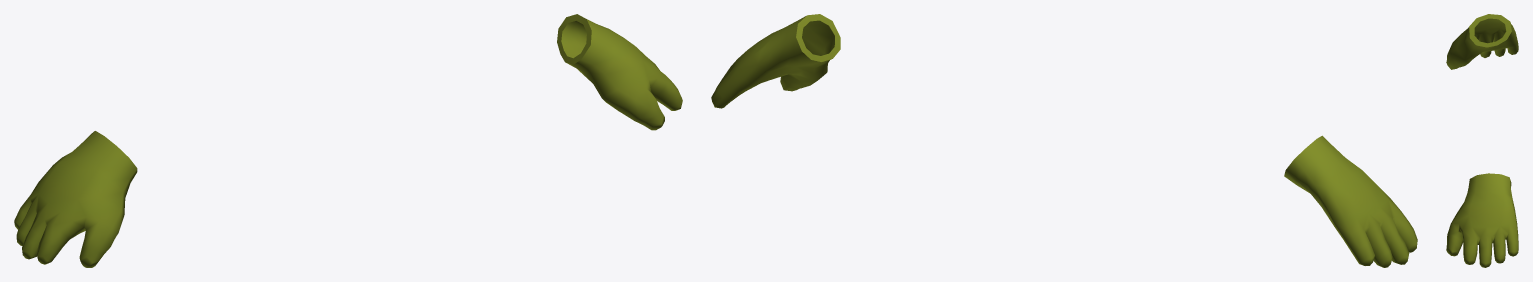
The model's file is Costume_11_04.glb.
3 renders of one model, left to right at view 1: azimuth 30°, elevation 25°; view 2: azimuth 150°, elevation 25°; view 3: azimuth 270°, elevation 25°, orthographic. The views are drawn at different scales.
Visible parts, largest first — view 1: Costume_11_04; view 2: Costume_11_04; view 3: Costume_11_04.
Part boxes in pixels (x1,y1,x2,y2): Costume_11_04: (14, 14, 682, 267); Costume_11_04: (711, 14, 1417, 267); Costume_11_04: (1446, 14, 1518, 267).
Bounding box in the file's own units: 0.8285 × 0.1244 × 0.1179.
Materials: 1 (1 with a texture image).
